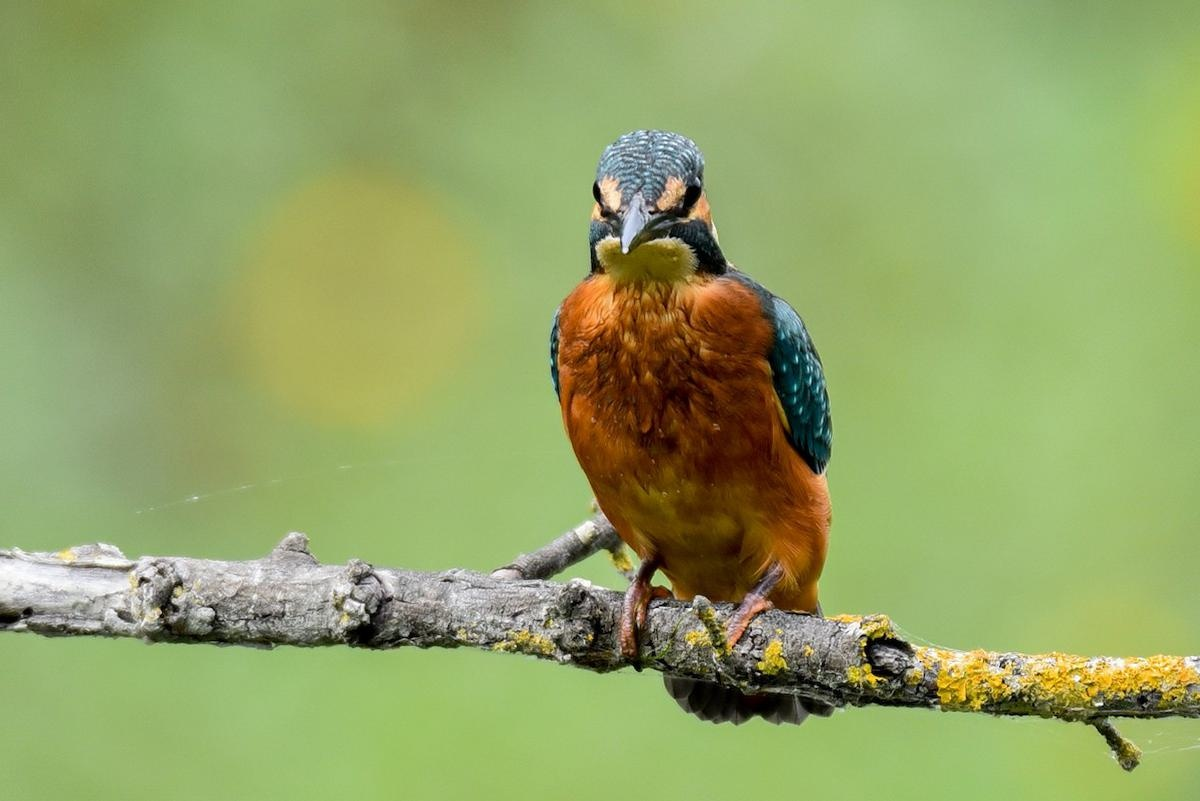kingfisher: (559, 108, 863, 644)
